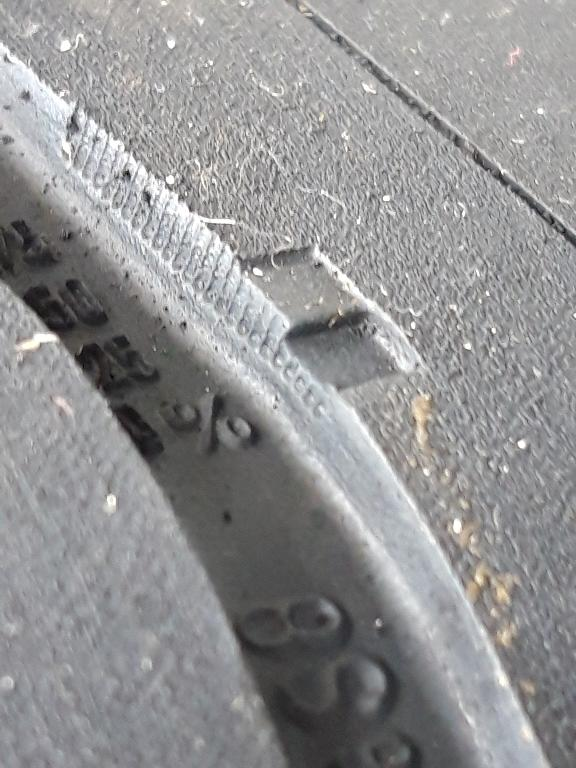temoin:25: (208, 235, 433, 429)
